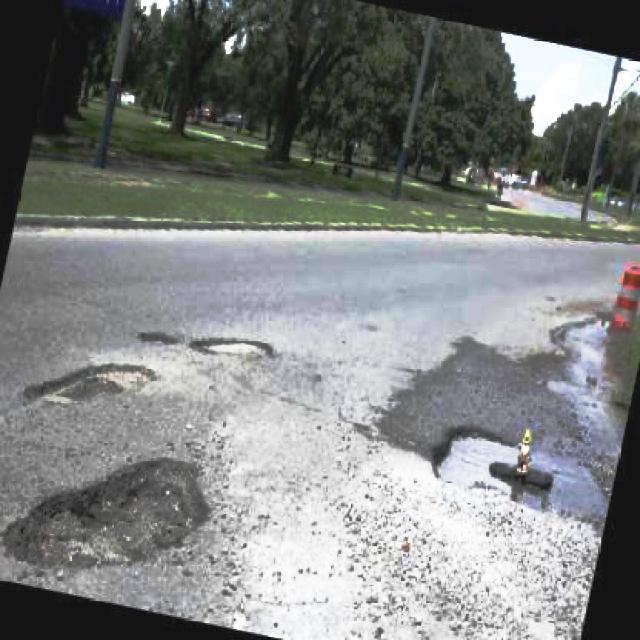pothole: (0, 448, 217, 575), (428, 423, 617, 534), (23, 357, 166, 408), (192, 331, 271, 362)
